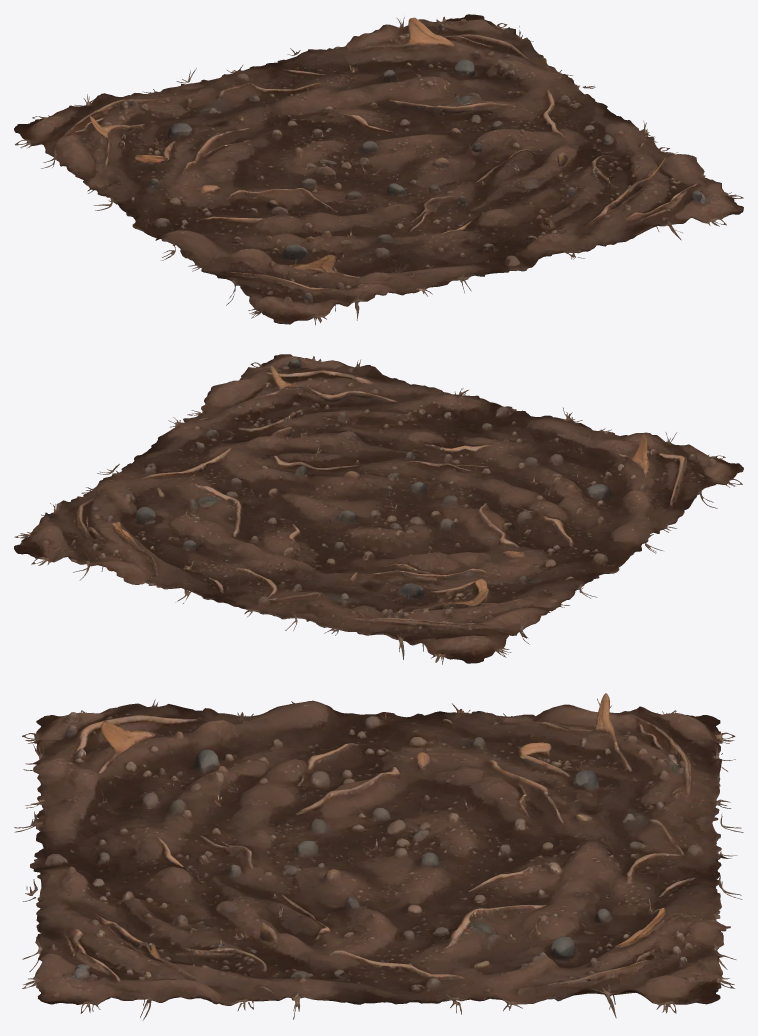
File: ground.glb
3 views of the same model, one above another, from view 1: azimuth 30°, elevation 25°; view 2: azimuth 150°, elevation 25°; view 3: azimuth 270°, elevation 25° (orthographic). The views are drawn at different scales.
Bounding box in the file's own units: 1.88 × 0.1894 × 1.89.
Materials: 1 (1 with a texture image).
